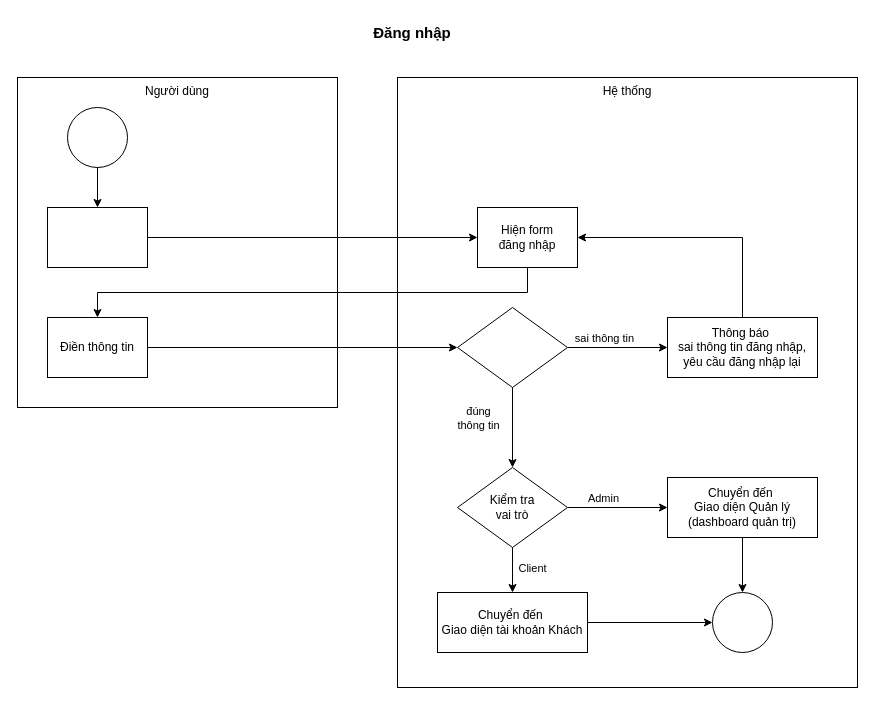
Image size: 875x705. Some labels were removed from this diagram. The centre of each missing label's shape, as x and y in pixels:
Bắt đầu: the point at 97,137
Kiểm tra thông tin: the point at 512,347
Kết thúc: the point at 742,622
Người dùng đăng nhập: the point at 97,237
